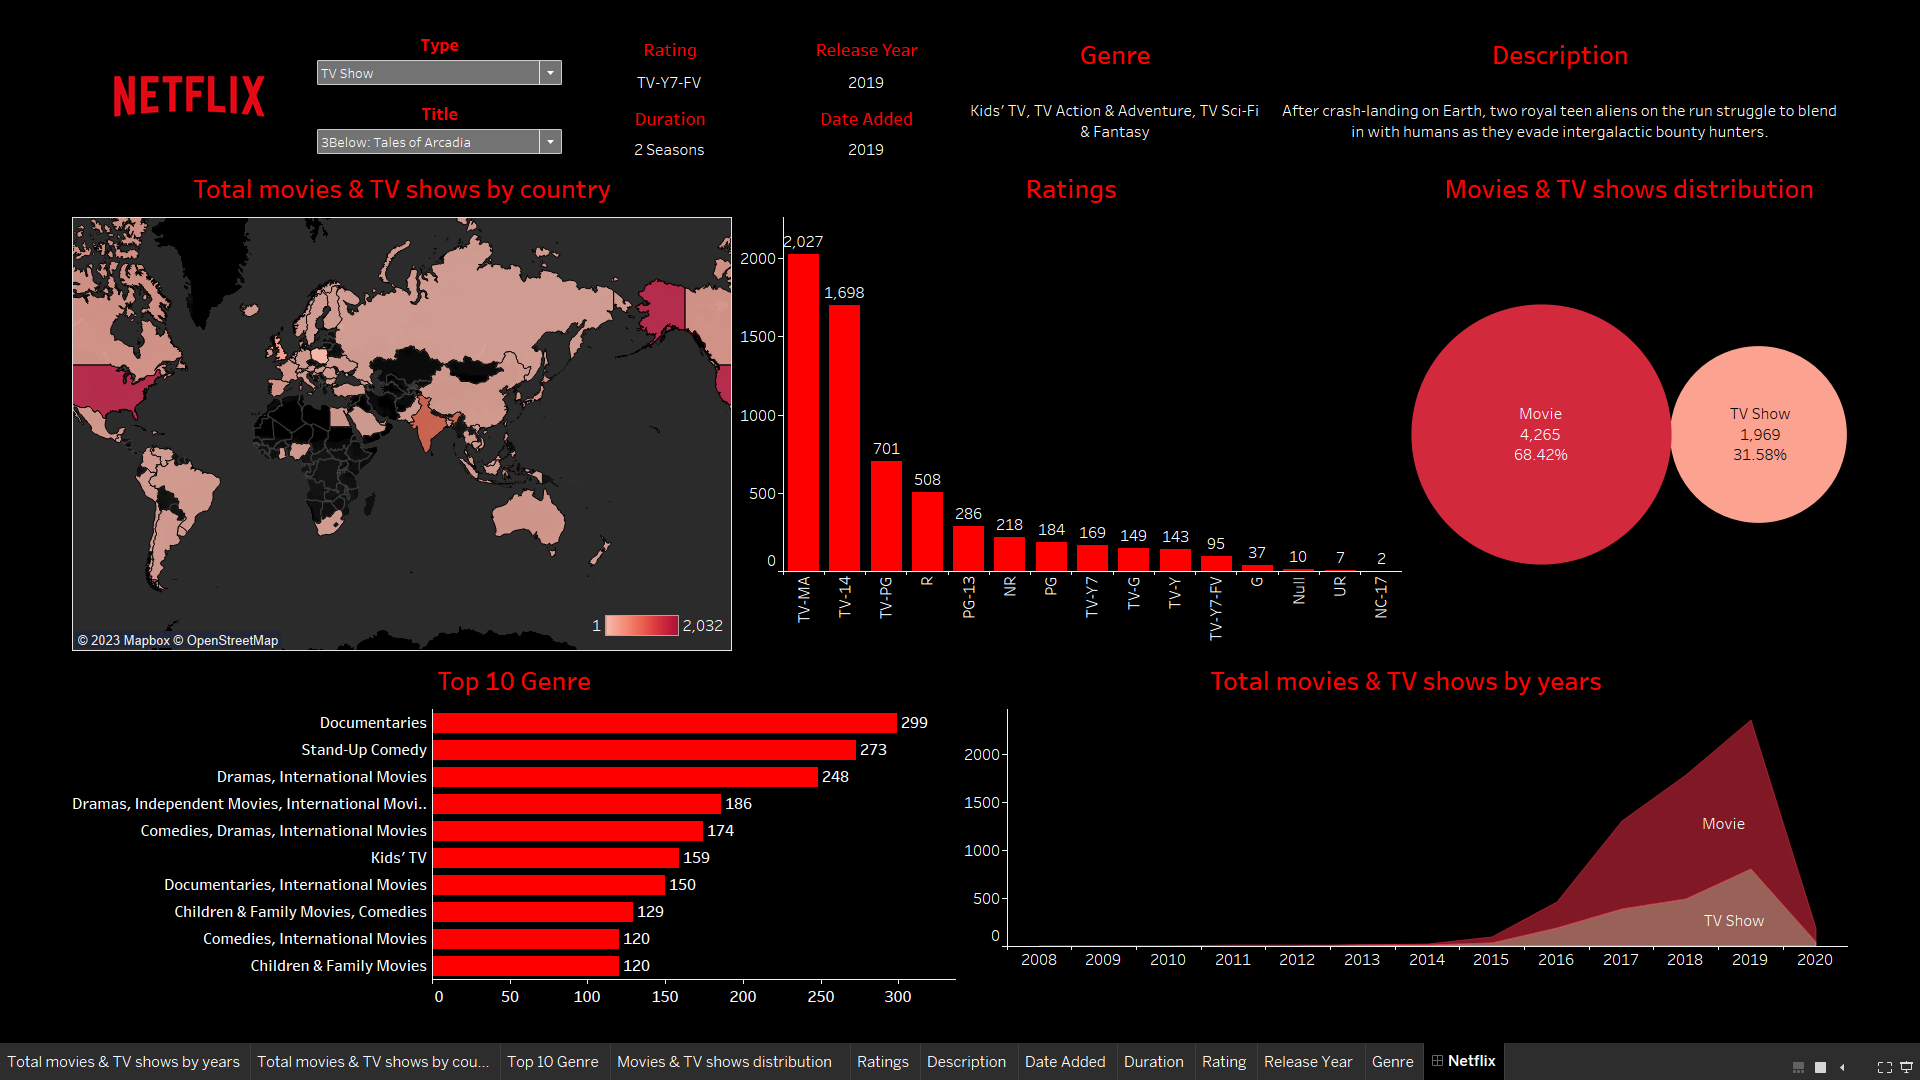

Layout of this report page (visuals, bound fields, positions):
{"tool":"tableau","page":{"name":"Netflix","canvas":[1800,1000],"ordinal":0},"visuals":[{"type":"image","param":"C:/Users/ACER/Downloads/Netflix logo.png","box":[8,8,242,134]},{"type":"filter","title":"Duration","param":"[federated.0uy1qtz1fh2p2d10j5n8e0q4eppt].[none:type:nk]","box":[250,8,259,69]},{"type":"worksheet","title":"Rating","mark":"Automatic","box":[509,8,202,69]},{"type":"worksheet","title":"Release Year","mark":"Automatic","box":[711,8,191,69]},{"type":"worksheet","title":"Genre","mark":"Automatic","box":[902,8,306,134]},{"type":"worksheet","title":"Description","mark":"Automatic","box":[1208,8,584,134]},{"type":"filter","title":"Duration","param":"[federated.0uy1qtz1fh2p2d10j5n8e0q4eppt].[none:title:nk]","box":[250,77,259,65]},{"type":"worksheet","title":"Duration","mark":"Automatic","box":[509,77,202,65]},{"type":"worksheet","title":"Date Added","mark":"Automatic","box":[711,77,191,65]},{"type":"worksheet","title":"Total movies & TV shows by country","mark":"Multipolygon","box":[8,142,667.9,492.3]},{"type":"worksheet","title":"Ratings","mark":"Automatic","rows":["show_id"],"cols":["rating"],"box":[675.9,142,670.1,492.3]},{"type":"worksheet","title":"Movies & TV shows distribution","mark":"Circle","box":[1346,142,446,492.3]},{"type":"legend","title":"Total movies & TV shows by country","param":"[federated.0uy1qtz1fh2p2d10j5n8e0q4eppt].[ctd:show_id:qk]","box":[528,590,140,36]},{"type":"worksheet","title":"Top 10 Genre","mark":"Automatic","rows":["listed_in"],"cols":["show_id"],"box":[8,634.3,892,357.7]},{"type":"worksheet","title":"Total movies & TV shows by years","mark":"Area","rows":["show_id"],"cols":["date_added"],"box":[900,634.3,892,357.7]}]}

Visuals, with their boxes on the page's 1800x1000 design canvas (x1, y1, x2, y2). These are canvas units, not pixel positions in the 1920x1080 screenshot, which may show the page scaled, cropped or inside an application window:
image: crop(8, 8, 250, 142)
"Duration" filter: crop(250, 8, 509, 77)
"Rating" worksheet: crop(509, 8, 711, 77)
"Release Year" worksheet: crop(711, 8, 902, 77)
"Genre" worksheet: crop(902, 8, 1208, 142)
"Description" worksheet: crop(1208, 8, 1792, 142)
"Duration" filter: crop(250, 77, 509, 142)
"Duration" worksheet: crop(509, 77, 711, 142)
"Date Added" worksheet: crop(711, 77, 902, 142)
"Total movies & TV shows by country" worksheet (Multipolygon marks): crop(8, 142, 676, 634)
"Ratings" worksheet: crop(676, 142, 1346, 634)
"Movies & TV shows distribution" worksheet (Circle marks): crop(1346, 142, 1792, 634)
"Total movies & TV shows by country" legend: crop(528, 590, 668, 626)
"Top 10 Genre" worksheet: crop(8, 634, 900, 992)
"Total movies & TV shows by years" worksheet (Area marks): crop(900, 634, 1792, 992)
